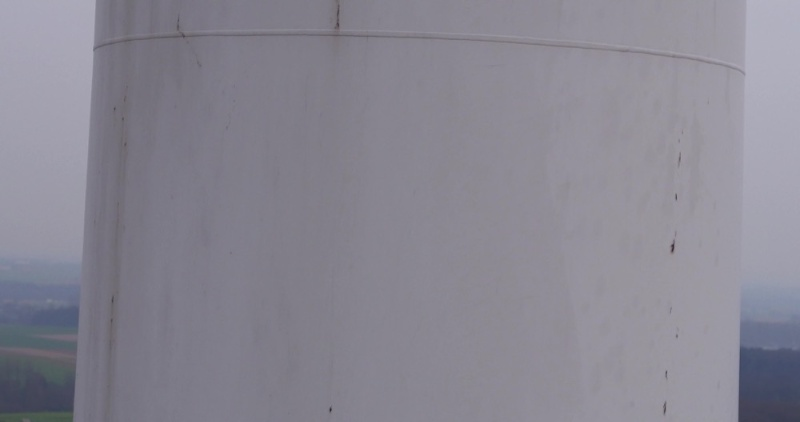weldseam: (85, 28, 750, 81)
